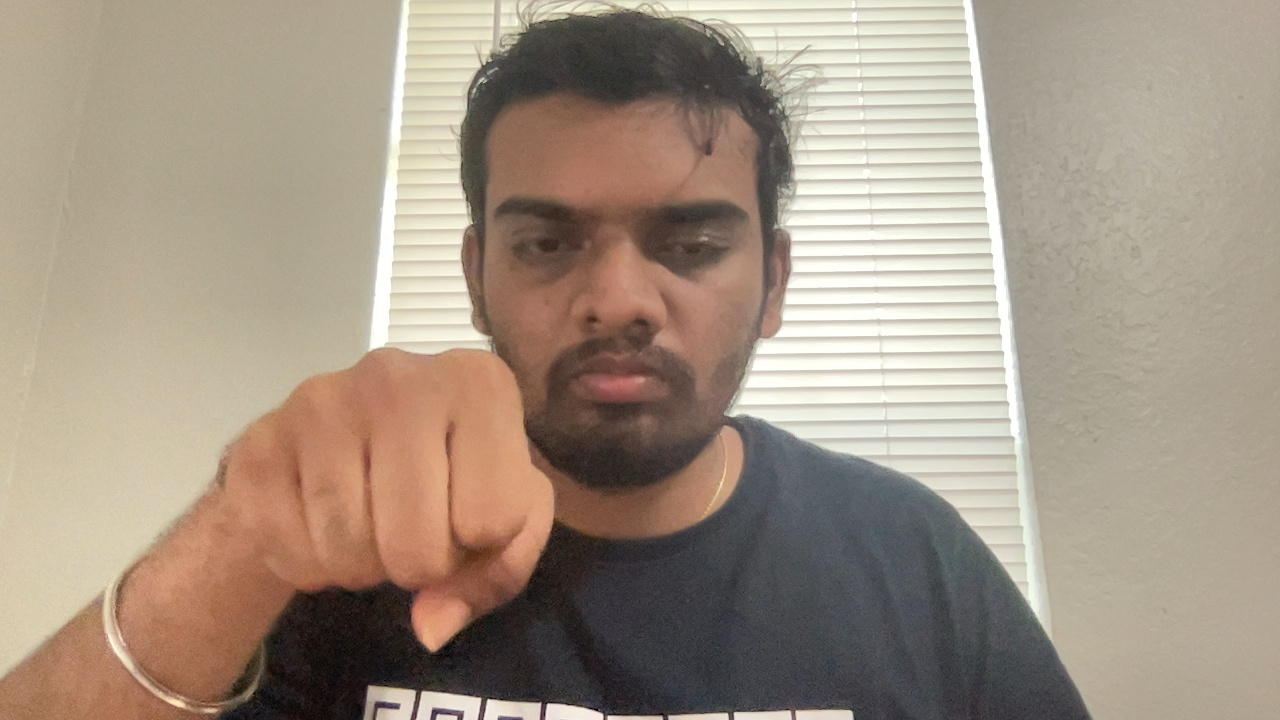yes: (200, 321, 565, 686)
